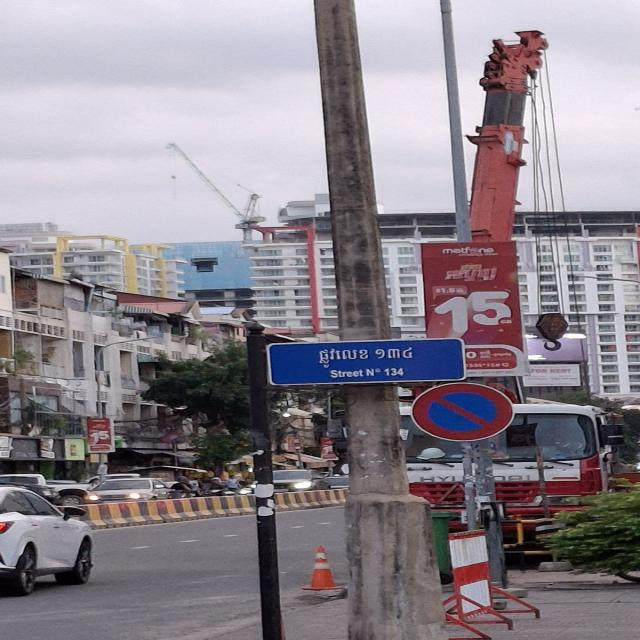Yolov11kh: (276, 338, 449, 374)
